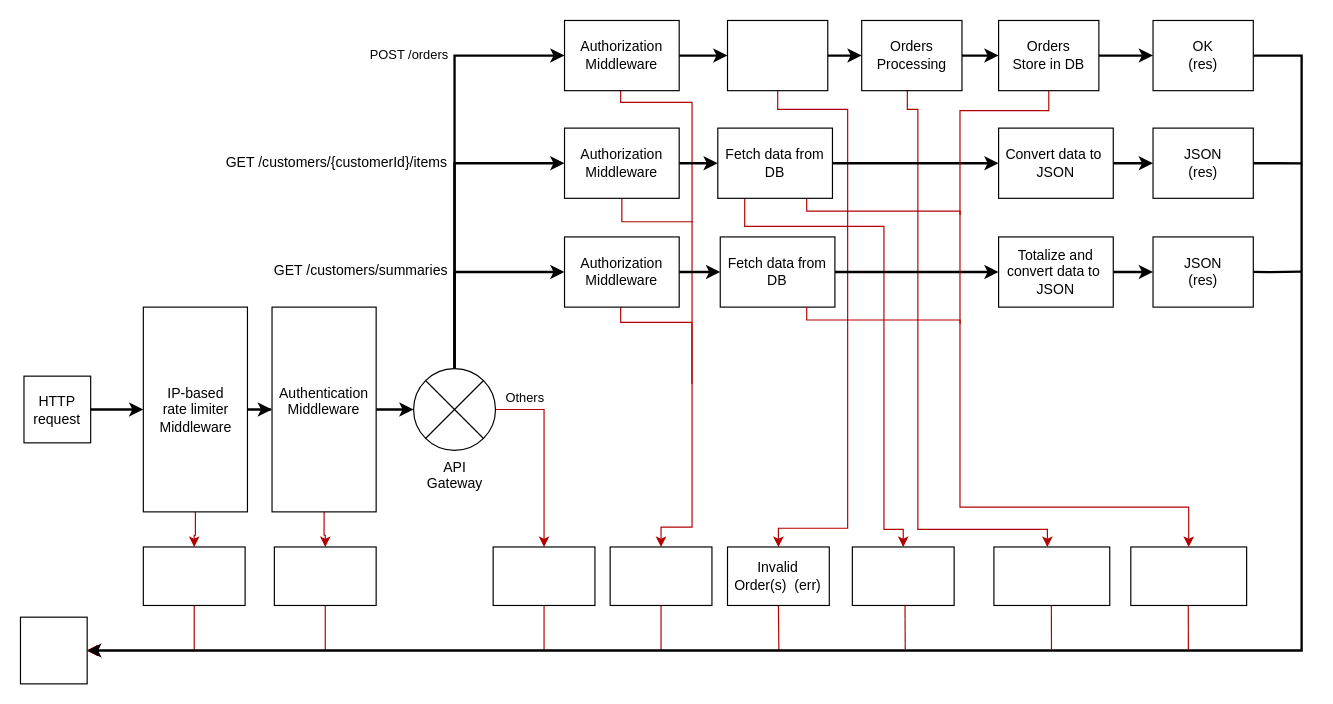
Image size: 1333x704. Some labels were removed from this diagram. The centre of each missing label's shape, as x and y in pixels:
"Authentication failed (err)" goes at point (324, 575).
"DB error ( err )" goes at point (1188, 575).
"Error processing orders ( err )" goes at point (1051, 575).
"HTTP response" goes at point (53, 650).
"Invalid CustomerId ( err )" goes at point (902, 575).
"Limit exceeded (err)" goes at point (193, 575).
"Orders Validator" goes at point (777, 55).
"Route not found ( err )" goes at point (543, 575).
"User not Authorized ( err )" goes at point (660, 575).
